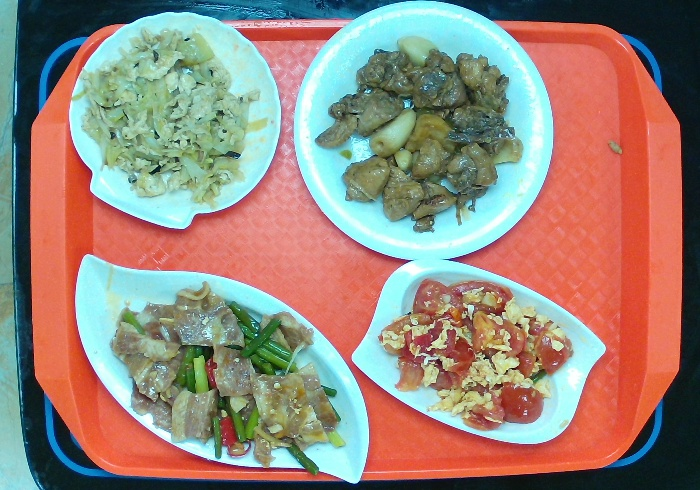RJxy-Bei_Ke_Wan: (68, 6, 289, 232)
RJxy-Jian_Jiao_Fang_Die: (350, 258, 607, 451)
RJxy-Jian_Jiao_Pan: (69, 249, 374, 488)
RJxy-Yuan_Pan: (292, 1, 556, 263)
